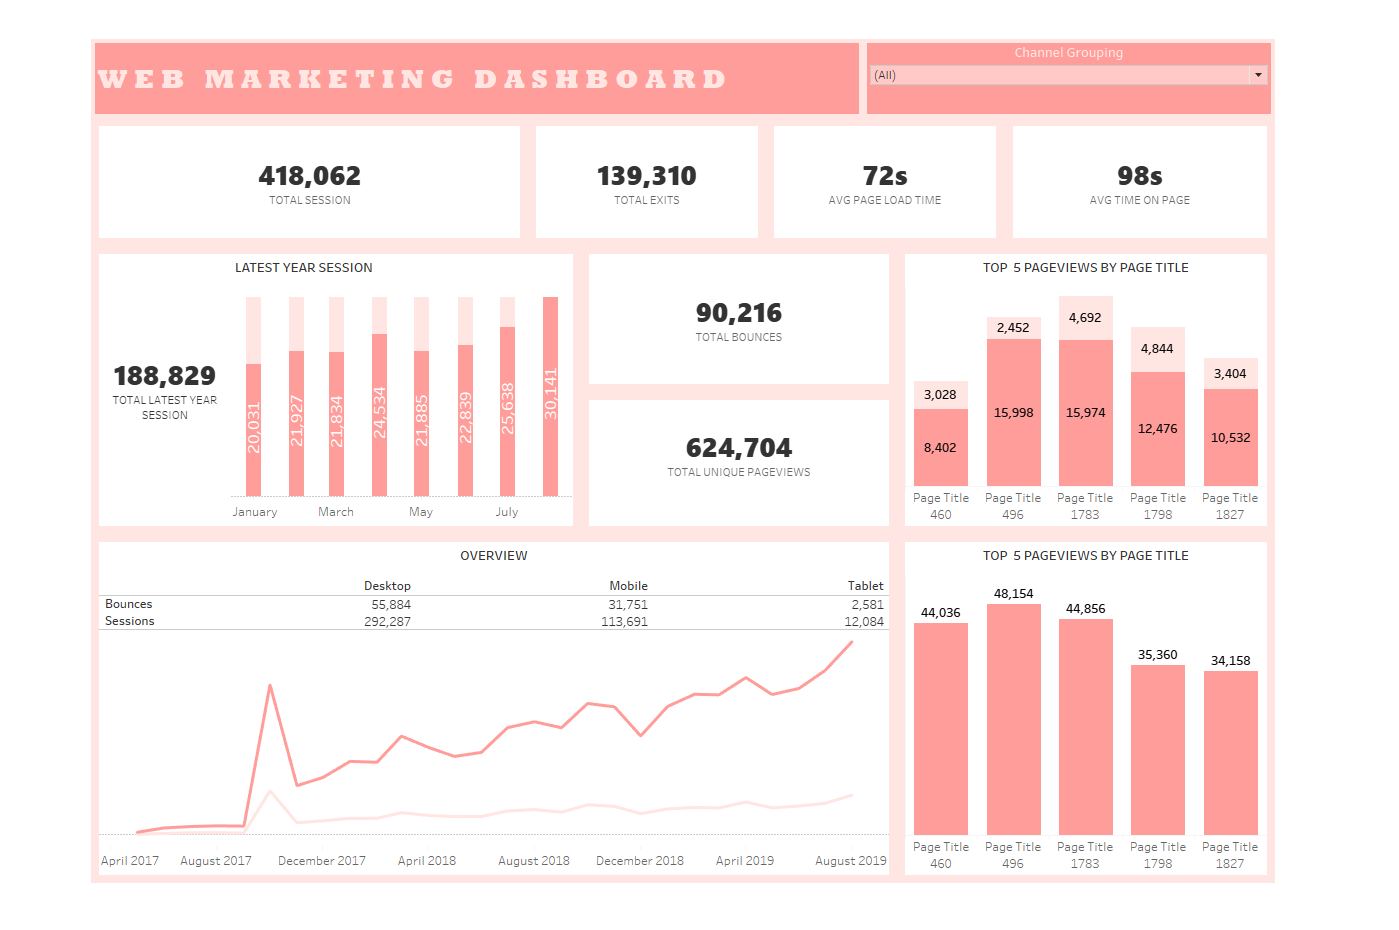

The page's visual inventory and layout, read from the dashboard file:
{"tool":"tableau","page":{"name":"Dashboard 1","canvas":[1200,860],"ordinal":0},"visuals":[{"type":"text","box":[8,8,772,79.2]},{"type":"filter","title":"SESSION","param":"[federated.1lzup7g0jr8kor111olg70teoxor].[none:Channel Grouping:nk]","box":[780,8,412,79.2]},{"type":"worksheet","title":"SESSION","mark":"Automatic","box":[8,87.2,437.2,127.9]},{"type":"worksheet","title":"EXITS","mark":"Automatic","box":[445.2,87.2,238.2,127.9]},{"type":"worksheet","title":"LOAD TIME","mark":"Automatic","box":[683.5,87.2,238.2,127.9]},{"type":"worksheet","title":"TIME ON PAGE","mark":"Automatic","box":[921.7,87.2,270.3,127.9]},{"type":"worksheet","title":"bar kpi","mark":"Automatic","box":[8,215.2,140,287.8]},{"type":"worksheet","title":"BAR","mark":"Bar","rows":["Calculation_585749439460970500","Sessions"],"cols":["Date"],"box":[148,215.2,349.9,287.8]},{"type":"worksheet","title":"BOUNCES","mark":"Automatic","box":[497.9,215.2,316,146]},{"type":"worksheet","title":"TOP 5 PAGEVIEWS (2)","mark":"Automatic","rows":["Pageviews"],"cols":["Page Title"],"box":[814,215.2,378,287.8]},{"type":"worksheet","title":"UNIQUE PAGE VIEWS","mark":"Automatic","box":[497.9,361.2,316,141.8]},{"type":"worksheet","title":"LINE KPI","mark":"Automatic","cols":["Device Category"],"box":[8,503,806,96]},{"type":"worksheet","title":"TOP 5 PAGEVIEWS","mark":"Automatic","rows":["Pageviews"],"cols":["Page Title"],"box":[814,503,378,349]},{"type":"worksheet","title":"LINE","mark":"Line","rows":["Bounces","Sessions"],"cols":["Date"],"box":[8,599,806,253]}]}

Visuals, with their boxes on the page's 1200x860 design canvas (x1, y1, x2, y2). These are canvas units, not pixel positions in the 1399x930 screenshot, which may show the page scaled, cropped or inside an application window:
text: {"left": 8, "top": 8, "right": 780, "bottom": 87}
"SESSION" filter: {"left": 780, "top": 8, "right": 1192, "bottom": 87}
"SESSION" worksheet: {"left": 8, "top": 87, "right": 445, "bottom": 215}
"EXITS" worksheet: {"left": 445, "top": 87, "right": 683, "bottom": 215}
"LOAD TIME" worksheet: {"left": 684, "top": 87, "right": 922, "bottom": 215}
"TIME ON PAGE" worksheet: {"left": 922, "top": 87, "right": 1192, "bottom": 215}
"bar kpi" worksheet: {"left": 8, "top": 215, "right": 148, "bottom": 503}
"BAR" worksheet (Bar marks): {"left": 148, "top": 215, "right": 498, "bottom": 503}
"BOUNCES" worksheet: {"left": 498, "top": 215, "right": 814, "bottom": 361}
"TOP 5 PAGEVIEWS (2)" worksheet: {"left": 814, "top": 215, "right": 1192, "bottom": 503}
"UNIQUE PAGE VIEWS" worksheet: {"left": 498, "top": 361, "right": 814, "bottom": 503}
"LINE KPI" worksheet: {"left": 8, "top": 503, "right": 814, "bottom": 599}
"TOP 5 PAGEVIEWS" worksheet: {"left": 814, "top": 503, "right": 1192, "bottom": 852}
"LINE" worksheet (Line marks): {"left": 8, "top": 599, "right": 814, "bottom": 852}
